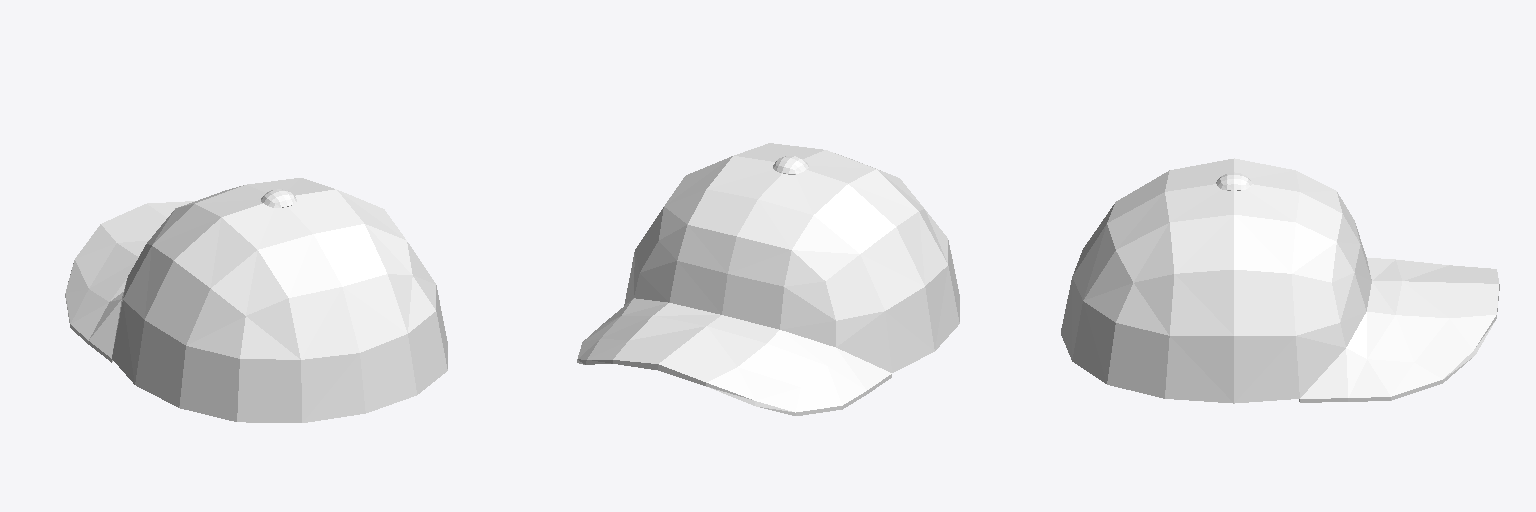
The model's file is McDonald'ser.obj.
The picture shows the model from 3 angles: view 1: azimuth 30°, elevation 25°; view 2: azimuth 150°, elevation 25°; view 3: azimuth 270°, elevation 25°; orthographic projection.
Parts seen in each view (by area): view 1: Mcdonaldshat1; view 2: Mcdonaldshat1; view 3: Mcdonaldshat1.
Part boxes in pixels (left/top/right/bottom): Mcdonaldshat1: left=65, top=178, right=447, bottom=422; Mcdonaldshat1: left=577, top=143, right=959, bottom=415; Mcdonaldshat1: left=1061, top=158, right=1499, bottom=403.
Bounding box in the file's own units: 1.29 × 0.6955 × 1.7.